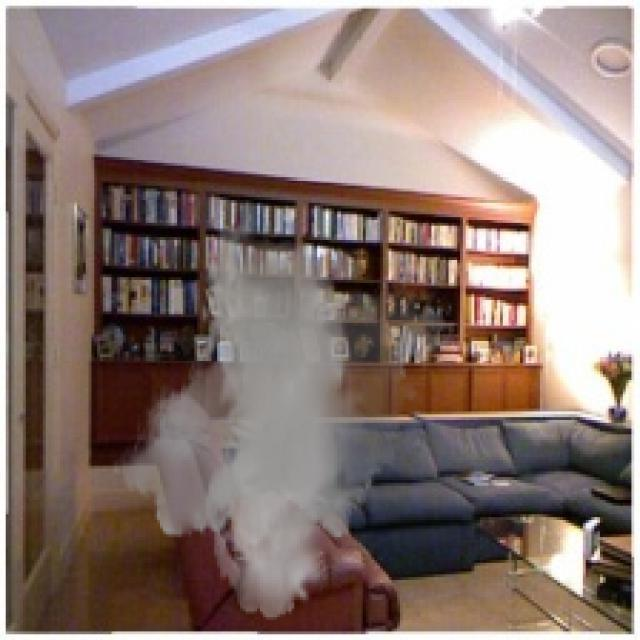Smoke: (112, 223, 457, 620)
